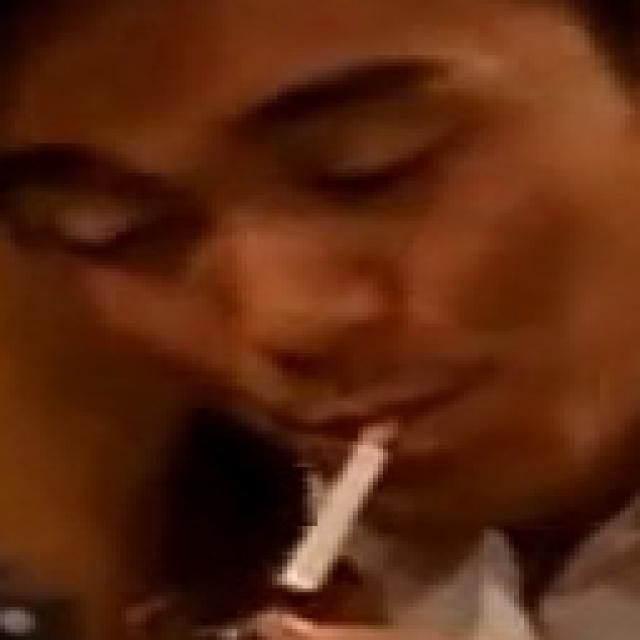smoking: (273, 412, 406, 593)
